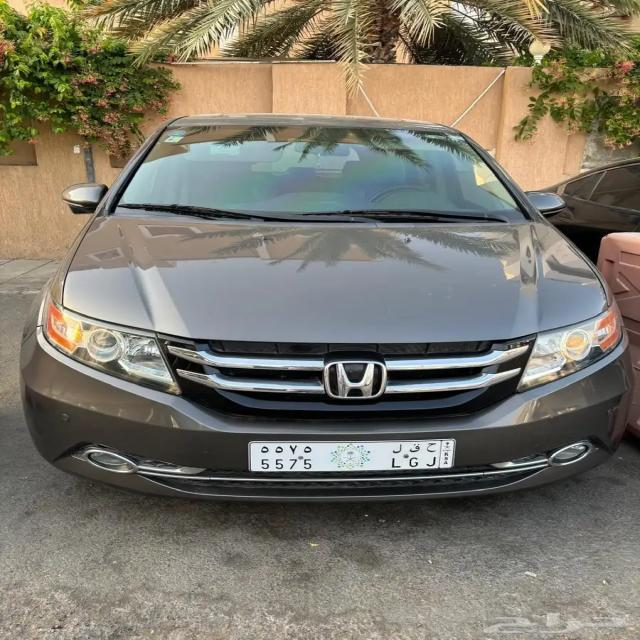license_plate: (248, 434, 456, 482), (249, 456, 441, 473)
